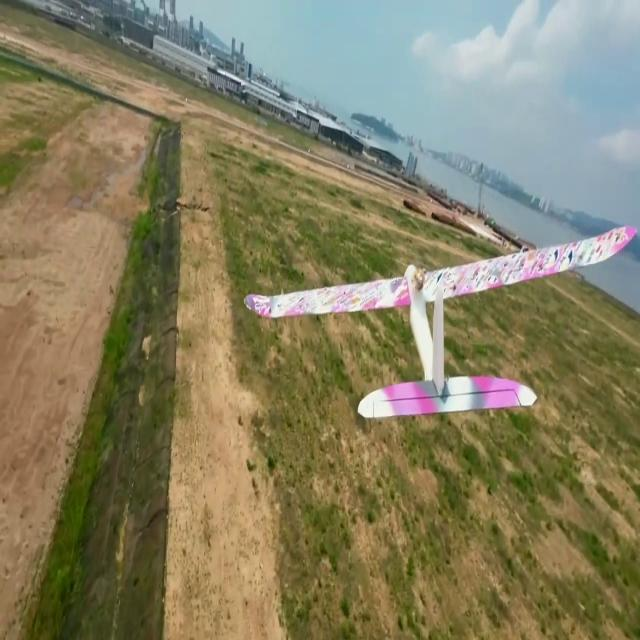iha: (247, 213, 637, 433)
